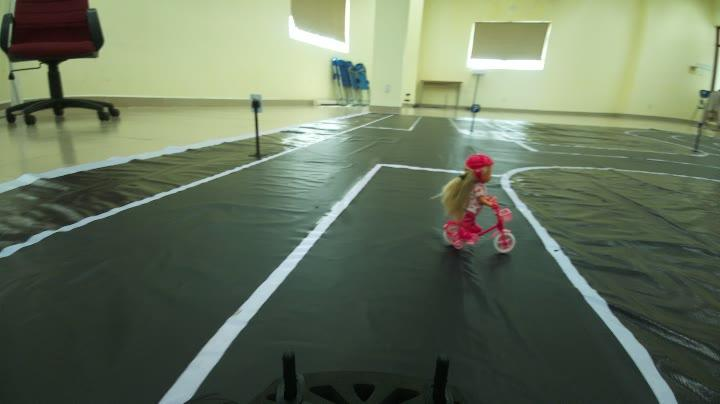pedestrian: (434, 159, 522, 249)
